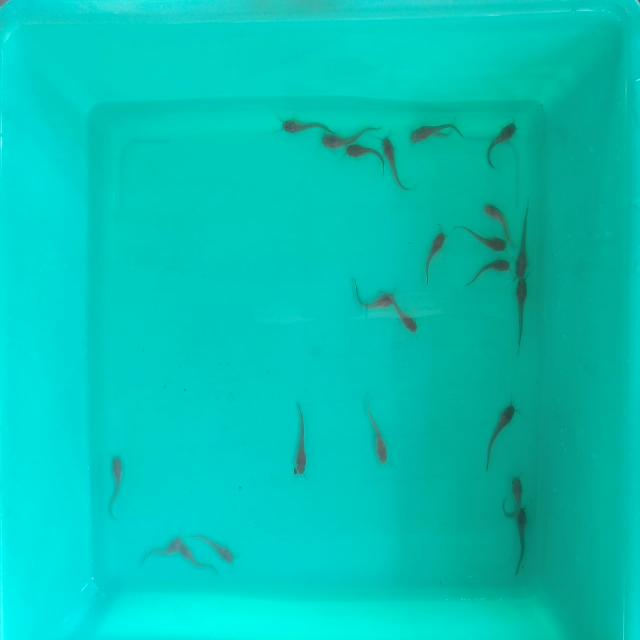lele: (484, 404, 518, 468), (482, 114, 519, 168), (452, 221, 507, 255), (483, 198, 519, 245), (191, 528, 235, 566), (382, 133, 408, 194), (422, 233, 449, 288), (464, 256, 509, 288), (395, 286, 423, 337), (320, 126, 382, 148), (515, 201, 533, 276), (409, 121, 463, 144), (367, 406, 387, 464), (514, 278, 530, 348), (180, 536, 209, 572), (294, 402, 308, 475), (142, 536, 181, 562), (514, 509, 528, 578), (354, 286, 393, 310), (110, 455, 123, 520), (503, 474, 523, 516), (282, 119, 332, 134), (344, 145, 382, 161)
